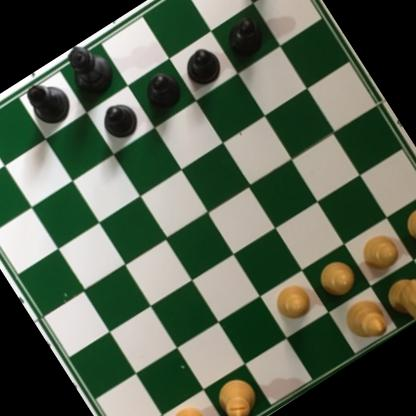black-bishop: (17, 71, 78, 134)
black-pawn: (218, 11, 274, 65), (138, 65, 189, 118), (95, 96, 145, 145), (180, 44, 228, 92)
black-queen: (57, 36, 124, 106)
white-bishop: (338, 291, 395, 350), (210, 369, 267, 416)
white-knight: (380, 268, 416, 329), (160, 398, 224, 416)
white-pawn: (354, 227, 406, 279), (312, 253, 363, 304), (268, 278, 318, 330), (399, 200, 416, 250)
